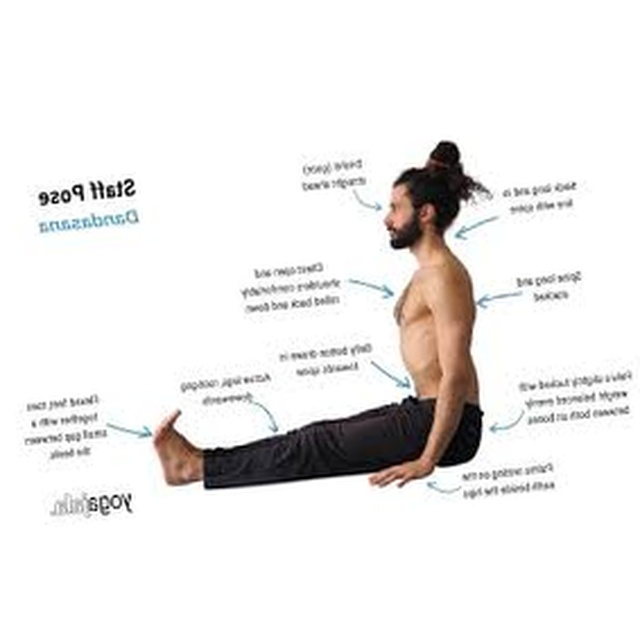Staff_Pose: (153, 139, 494, 490)
